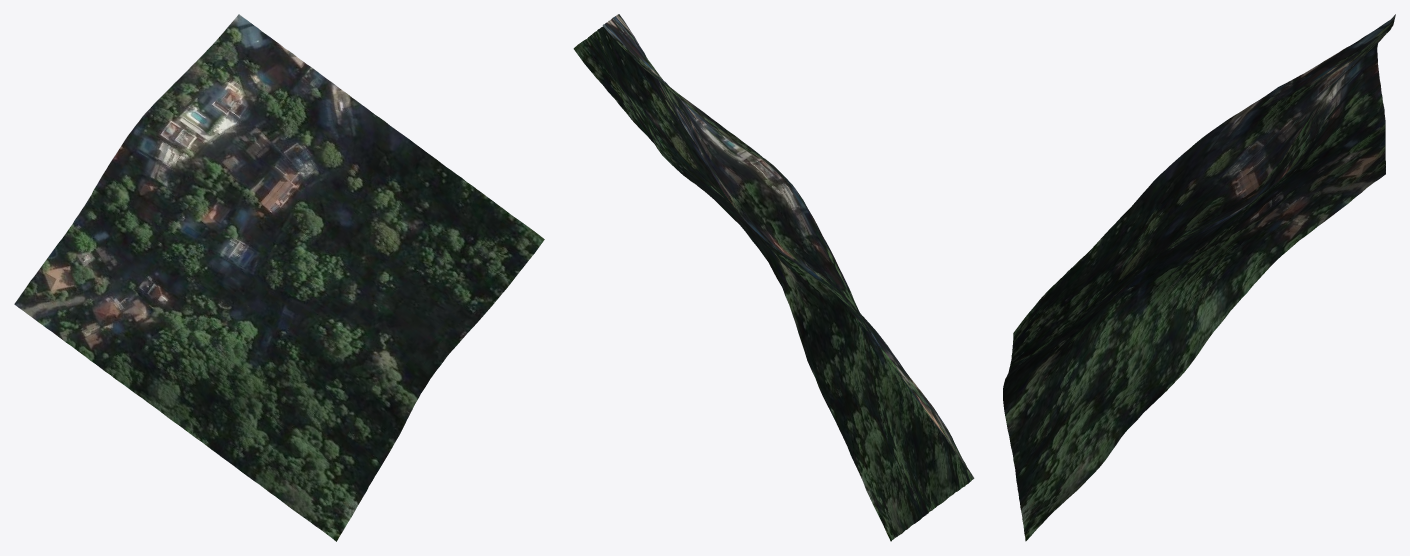
3 views of the same model, side by side, from view 1: azimuth 30°, elevation 25°; view 2: azimuth 150°, elevation 25°; view 3: azimuth 270°, elevation 25° (orthographic). The views are drawn at different scales.
Size of the model in its own units: 346 by 352 by 226.
Materials: 1 (1 with a texture image).
